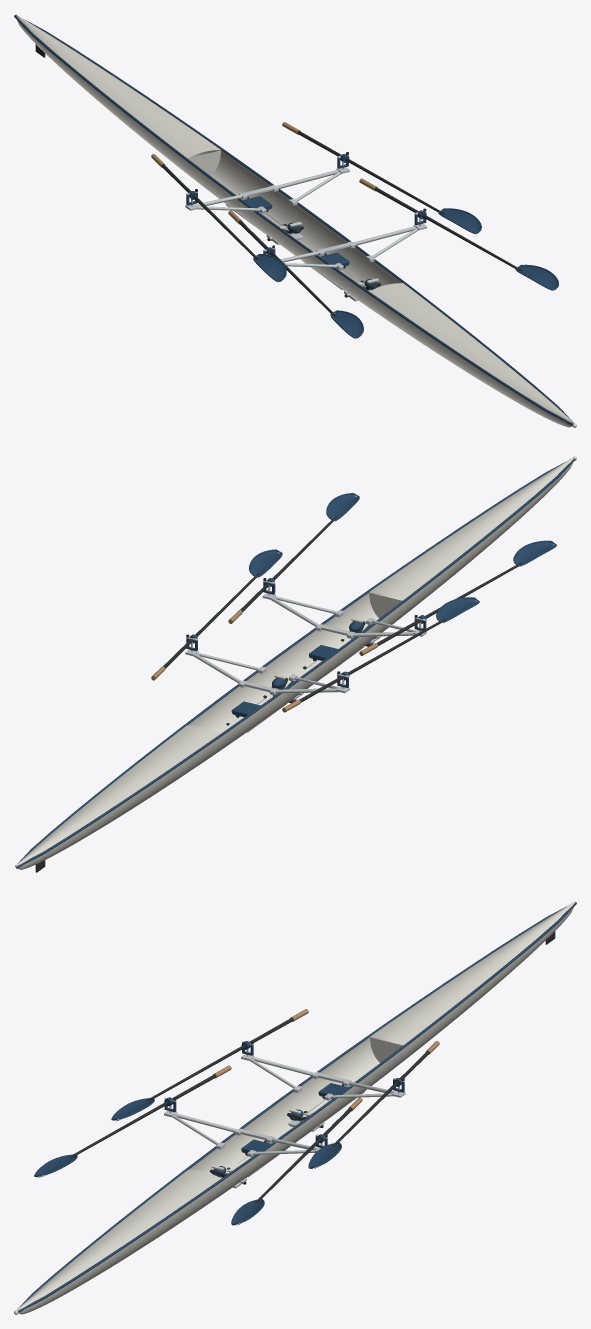
The model's file is rowing-boathouse-and-regatta-course-double-scull-shell-aa4b71e8__32129.glb.
3 renders of one model, top to bottom at view 1: azimuth 30°, elevation 25°; view 2: azimuth 150°, elevation 25°; view 3: azimuth 330°, elevation 25°, orthographic.
Visible parts, largest first — view 1: double-scull-shell; view 2: double-scull-shell; view 3: double-scull-shell.
Part boxes in pixels (left/top/right/bottom): double-scull-shell: left=14, top=14, right=576, bottom=427; double-scull-shell: left=15, top=456, right=576, bottom=872; double-scull-shell: left=14, top=901, right=576, bottom=1314.
Size of the model in its own units: 2.19 by 0.584 by 10.02.
